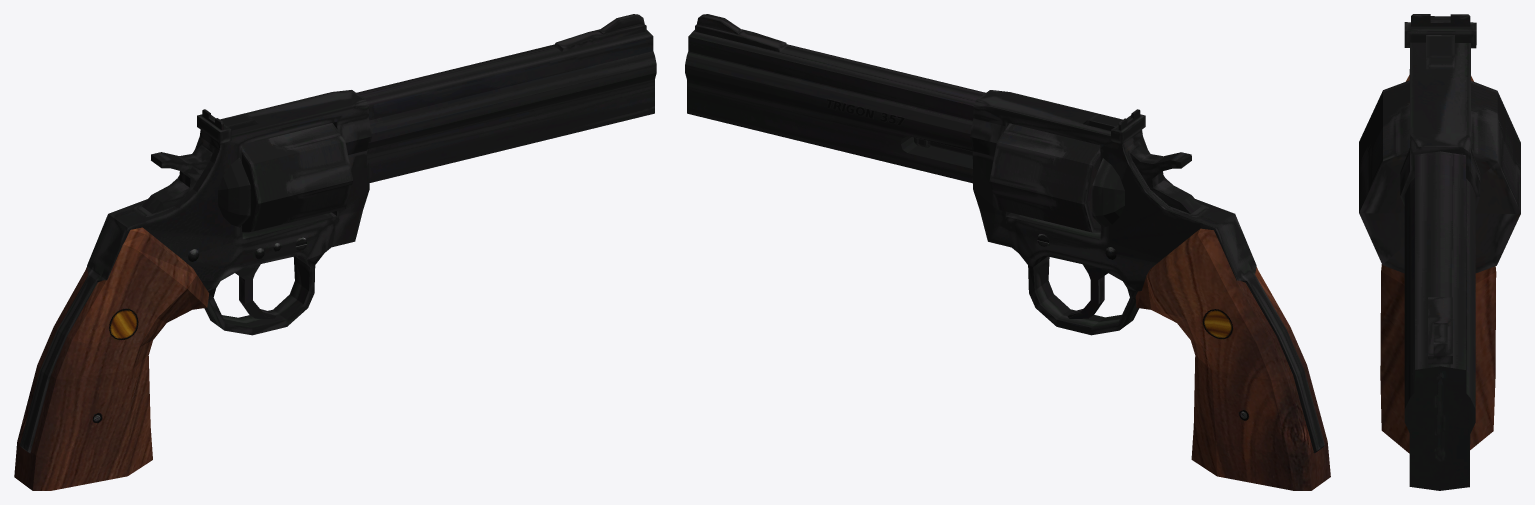
The model's file is pistol.gltf.
The picture shows the model from 3 angles, left to right: view 1: azimuth 30°, elevation 25°; view 2: azimuth 150°, elevation 25°; view 3: azimuth 270°, elevation 25°; orthographic projection. The views are drawn at different scales.
Parts seen in each view (by area): view 1: colt.png; view 2: colt.png; view 3: colt.png.
Boxes of the visible parts, x1=… form: colt.png: x1=14, y1=14, x2=656, y2=490; colt.png: x1=685, y1=14, x2=1330, y2=490; colt.png: x1=1359, y1=14, x2=1520, y2=490.
Bounding box in the file's own units: 2.65 × 1.31 × 0.3879.
Materials: 1 (1 with a texture image).
